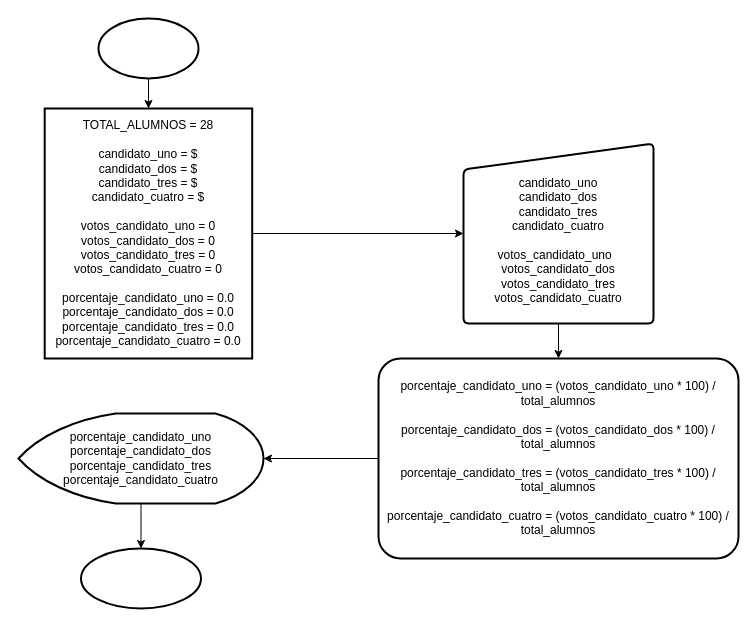
This 756x626 diagram has some shape labels left out. The shapes that lost their labels are listed below. From the top down, each one's centre as x and y in pixels, then its label:
At point 148,48: "INICIO".
At point 141,578: "FIN".
